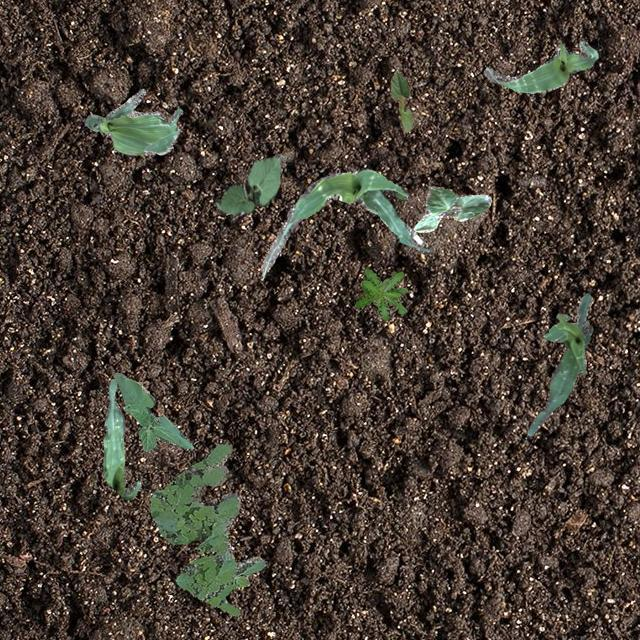crop: (260, 168, 430, 278), (526, 292, 592, 434), (84, 88, 182, 154), (114, 372, 192, 451), (482, 40, 598, 92), (102, 378, 140, 498), (214, 154, 284, 214), (412, 184, 490, 232), (388, 70, 412, 130)
weed: (148, 442, 266, 616), (354, 266, 406, 320), (556, 312, 588, 328)
